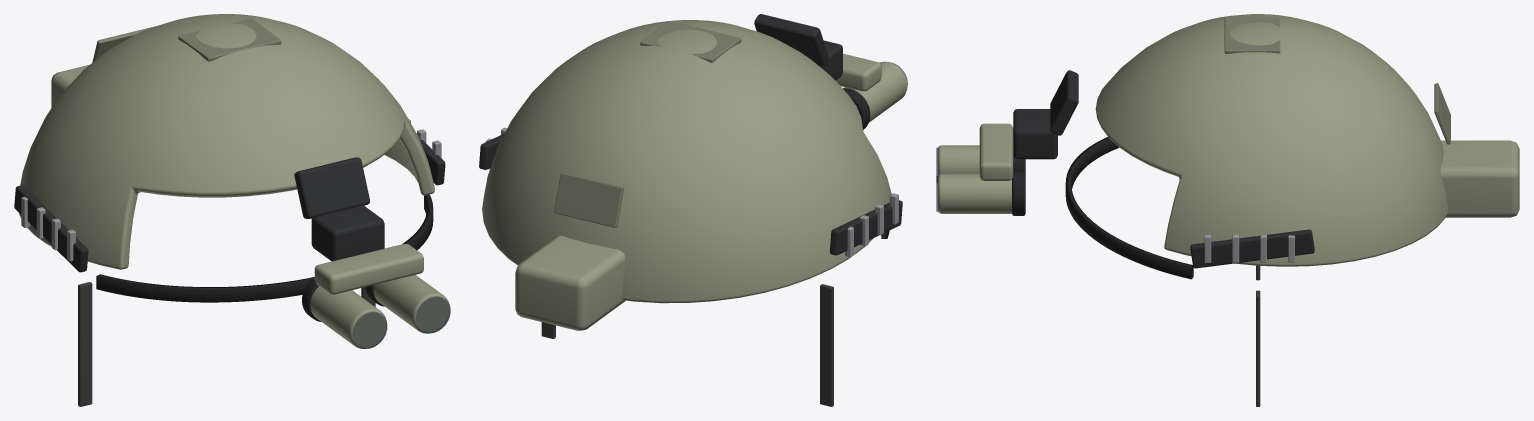
File: helmet_nvg_CT.glb
The picture shows the model from 3 angles, left to right: view 1: azimuth 30°, elevation 25°; view 2: azimuth 150°, elevation 25°; view 3: azimuth 270°, elevation 25°; orthographic projection. The views are drawn at different scales.
Visible parts, largest first — view 1: helmet@Head; view 2: helmet@Head; view 3: helmet@Head.
Part boxes in pixels (x1,y1,x2,y2): helmet@Head: (14,14,450,406); helmet@Head: (479,14,907,406); helmet@Head: (936,14,1519,406).
Size of the model in its own units: 0.3527 by 0.3054 by 0.5226.
